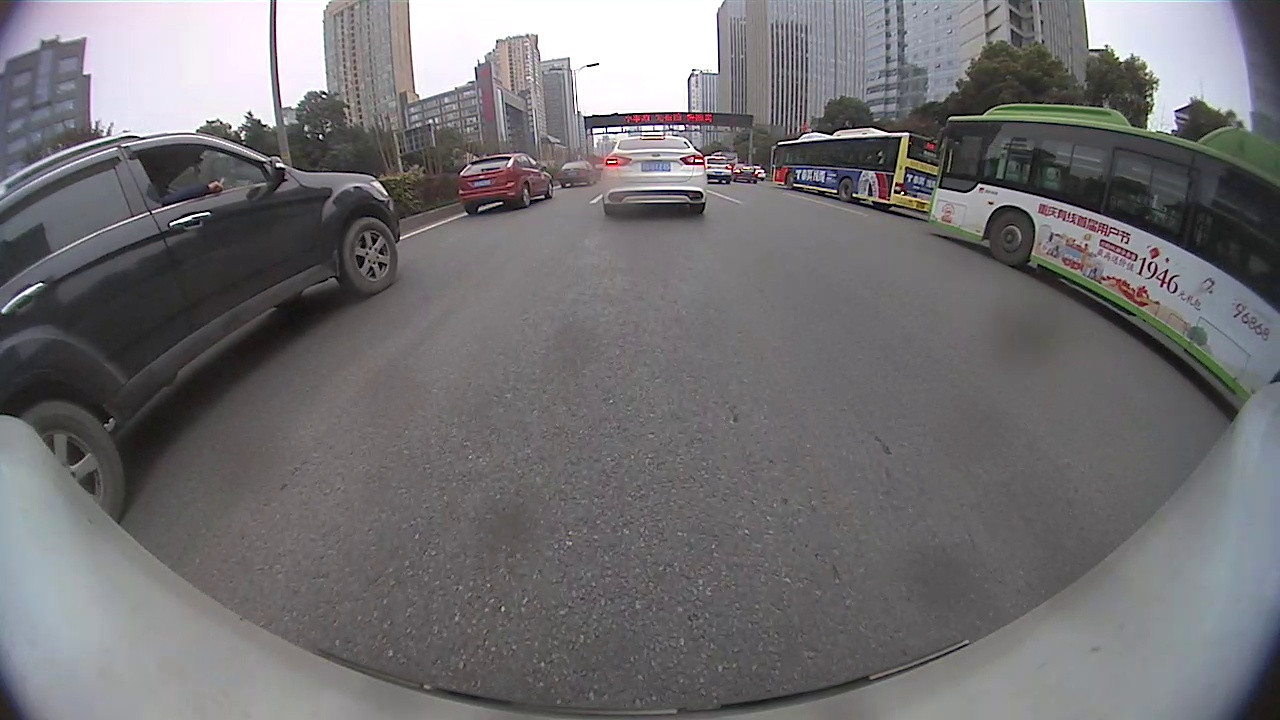bus: (929, 103, 1279, 412), (769, 127, 945, 217)
car: (1, 131, 402, 526), (599, 135, 708, 215), (455, 152, 556, 217)
front: (343, 217, 401, 296), (988, 206, 1035, 268), (784, 173, 800, 192), (545, 181, 556, 200)
rear: (17, 396, 127, 530), (838, 176, 855, 202), (519, 181, 534, 209)
